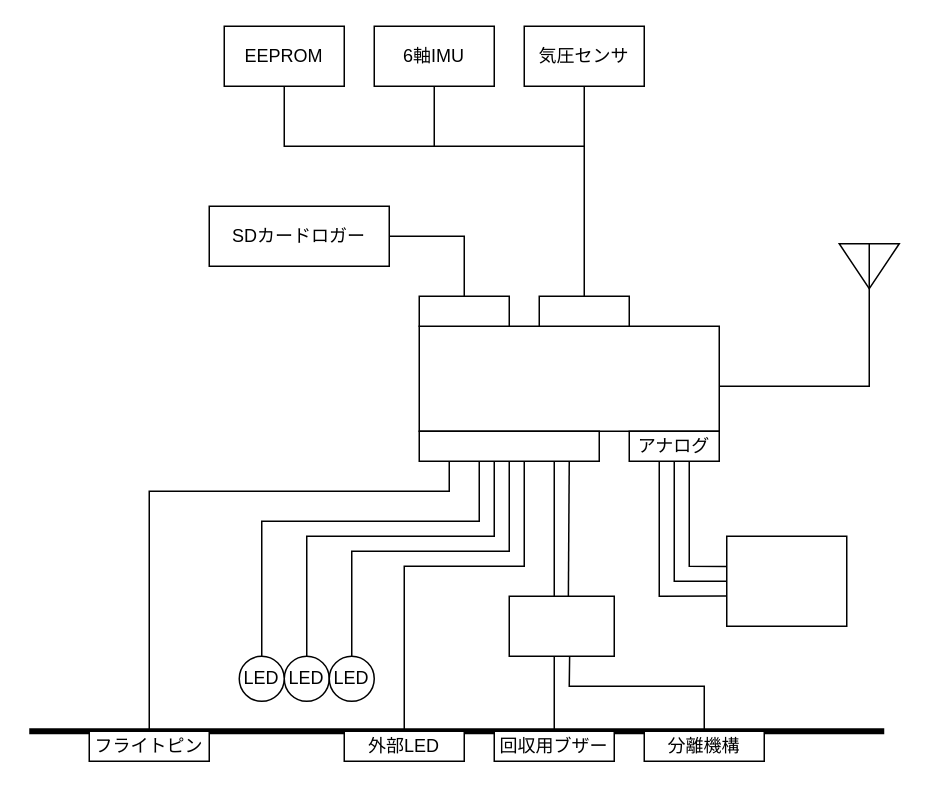
The diagram is 926 pixels wide and 788 high, and some of its shapes have lost their labels. Here are the shapes that lost their labels. From the top down, the centre of each, then its label:
At point 463,310: "UART".
At point 583,310: "I2C".
At point 568,378: "メインコンピュータ".
At point 508,445: "デジタル".
At point 786,580: "電圧測定回路".
At point 561,625: "リレー".
